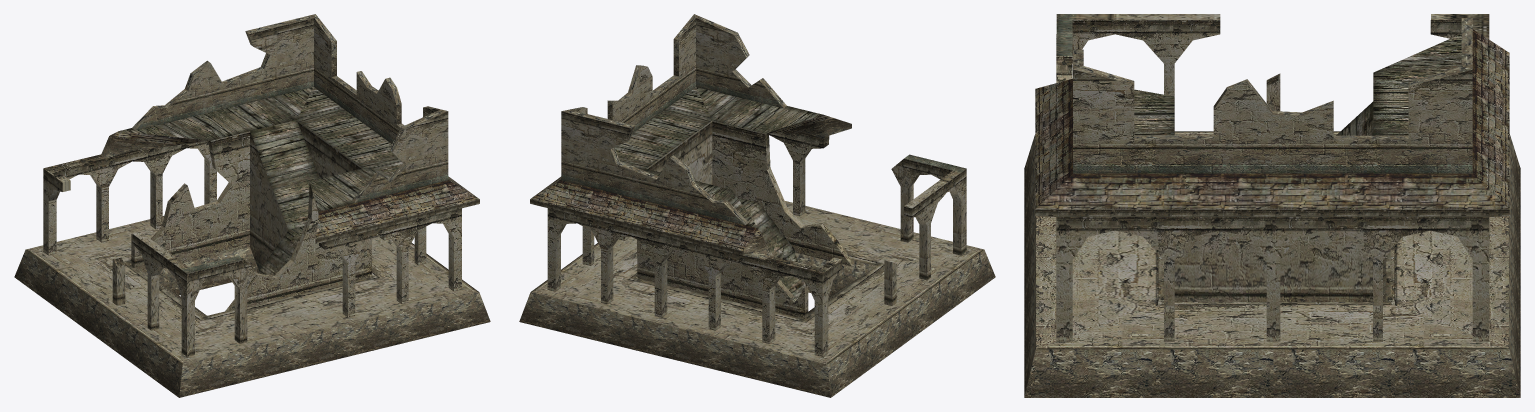
Rendered from MogBld2.glb.
The picture shows the model from 3 angles, left to right: view 1: azimuth 30°, elevation 25°; view 2: azimuth 150°, elevation 25°; view 3: azimuth 270°, elevation 25°; orthographic projection. The views are drawn at different scales.
Parts seen in each view (by area): view 1: _MogBld2; view 2: _MogBld2; view 3: _MogBld2.
Part boxes in pixels (<box>): _MogBld2: <box>14,14,490,397</box>; _MogBld2: <box>519,14,995,397</box>; _MogBld2: <box>1024,14,1520,397</box>.
Bounding box in the file's own units: 14.57 × 9.18 × 13.37.
Materials: 1 (1 with a texture image).
